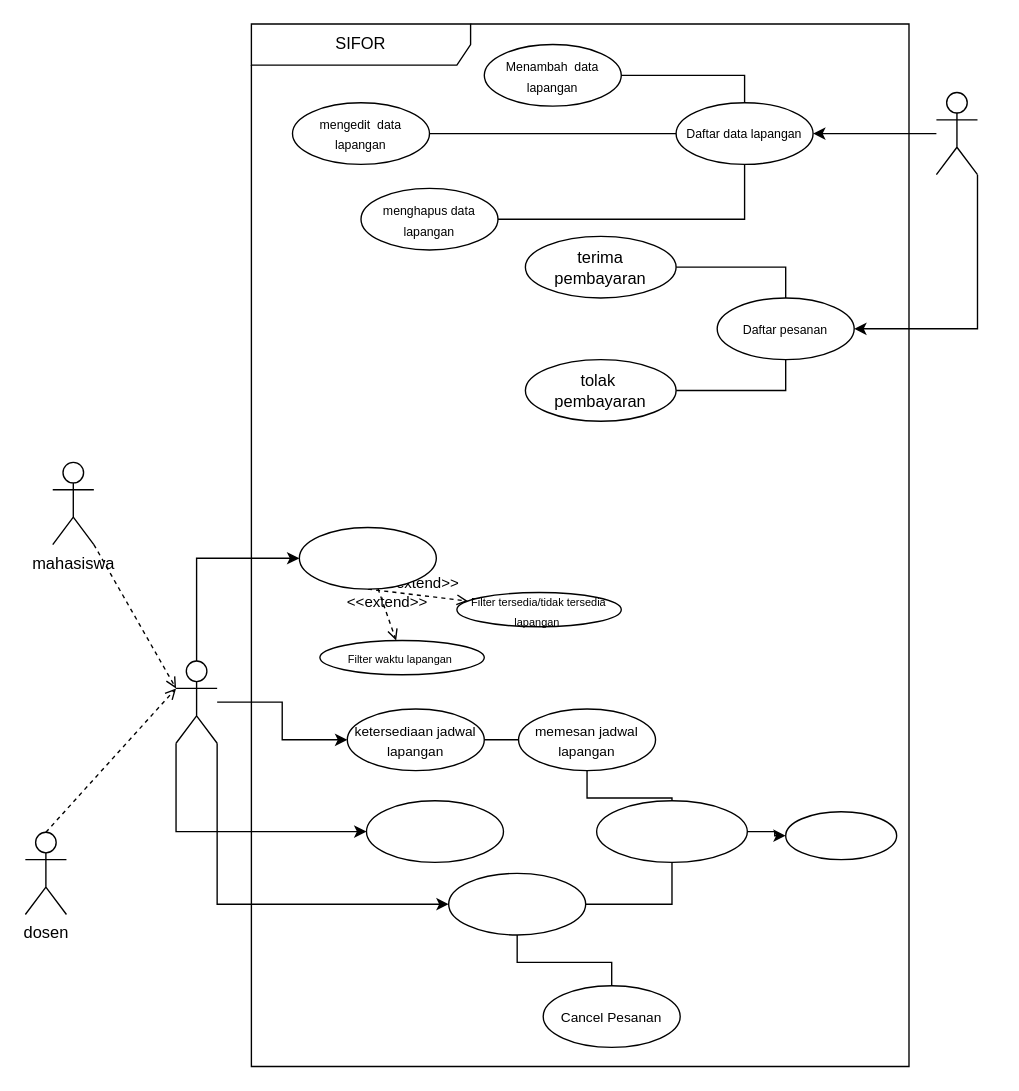
This 1019x1091 diagram has some shape labels left out. Here are the shapes that lost their labels. From the top down, the centre of each, then its label:
the point at 956,133: Pengelola Lapangan
the point at 367,557: Daftar jadwal lapangan
the point at 196,701: Anggota Kampus
the point at 434,830: daftar riwayat pesanan
the point at 671,830: pembayaran
the point at 840,835: Lunas
the point at 516,903: Daftar Pemesanan
